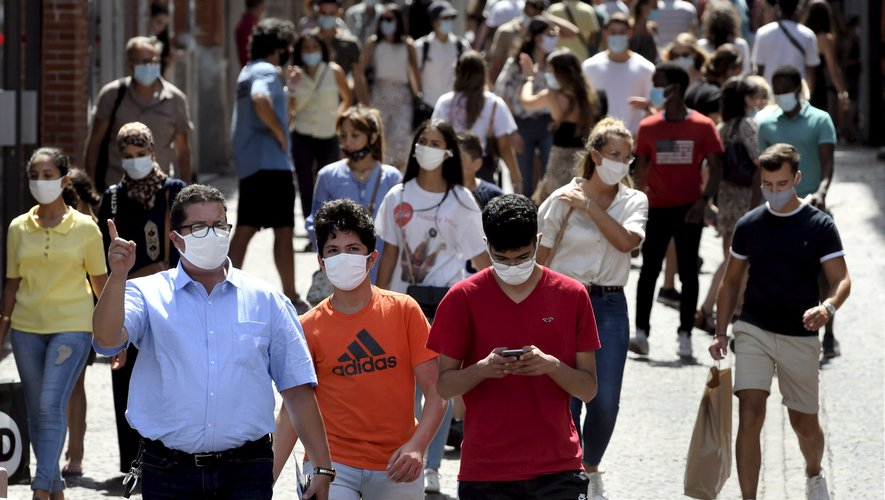with_incorrect_mask: (339, 122, 378, 168)
with_mask: (177, 200, 230, 267), (326, 226, 369, 299), (484, 241, 535, 289), (596, 136, 634, 193), (411, 125, 450, 180), (756, 161, 794, 214), (29, 158, 67, 209), (122, 135, 157, 188), (124, 43, 161, 88), (646, 69, 683, 112), (772, 74, 801, 113)
